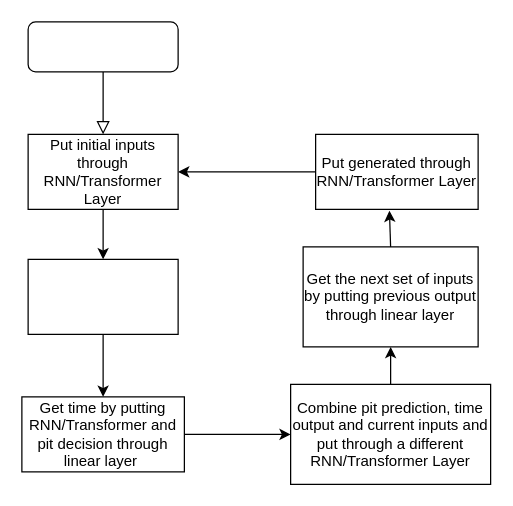
Some shapes in this 513 by 506 pixel diagram are drawn without their labels. The centre of each missing label's shape, as x and y in pixels:
"Enter Sequence Batch" goes at pixel 102 46.
"Get pit decision by putting RNN/Transformer output through linear layer" goes at pixel 102 296.
